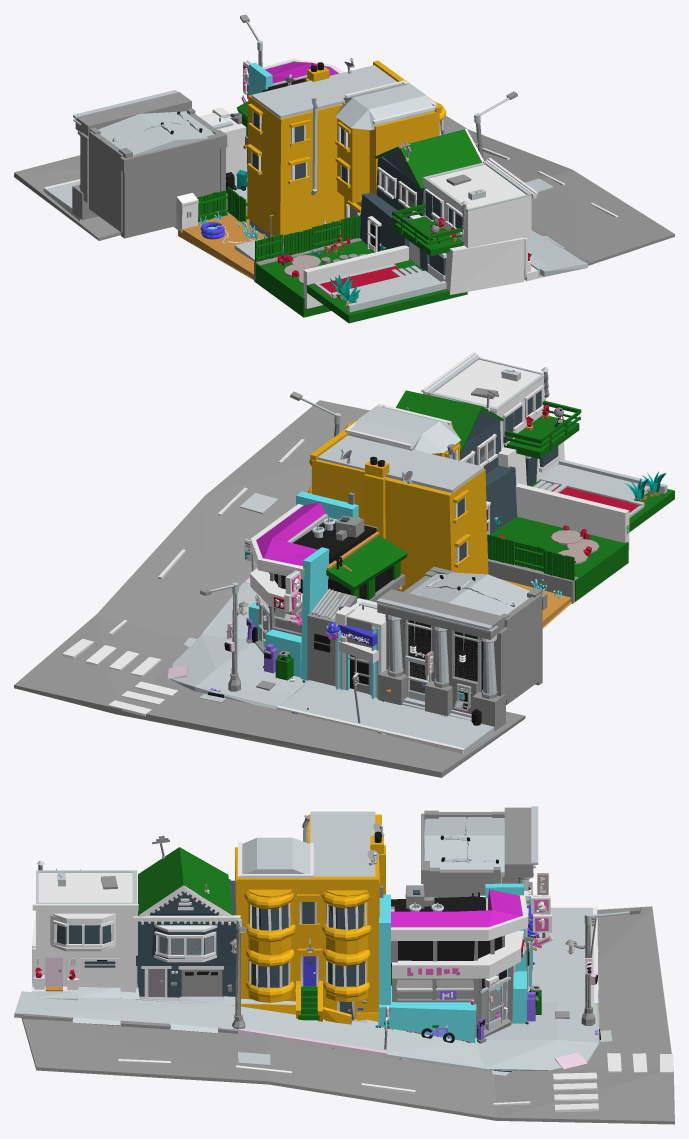
Rendered from Level1_newcitypiece.fbx.
The picture shows the model from 3 angles, top to bottom: view 1: azimuth 30°, elevation 25°; view 2: azimuth 150°, elevation 25°; view 3: azimuth 270°, elevation 25°; orthographic projection. The views are drawn at different scales.
Visible parts, largest first — view 1: group1105155231; view 2: group1105155231; view 3: group1105155231.
Boxes of the visible parts, bbox=[...] form: group1105155231: bbox=[14, 14, 674, 323]; group1105155231: bbox=[14, 352, 674, 777]; group1105155231: bbox=[14, 806, 674, 1124].
Size of the model in its own units: 577 by 236 by 760.
